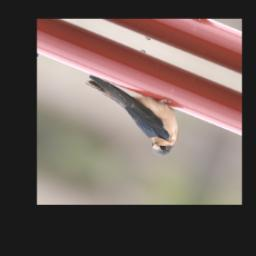Swallow: (70, 65, 191, 162)
